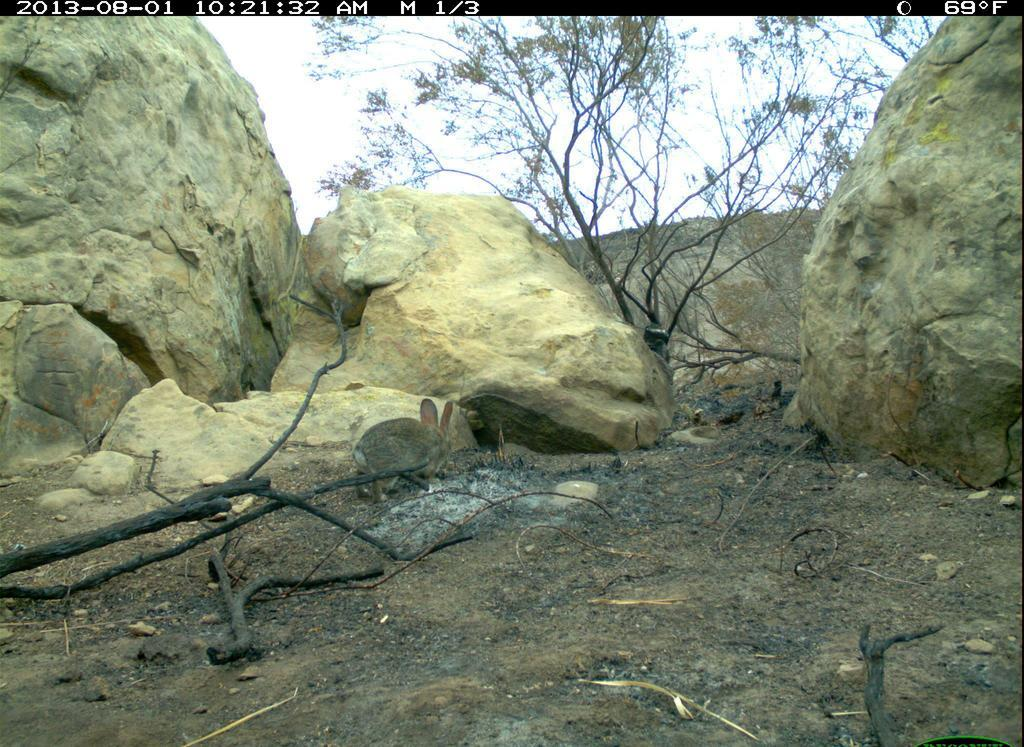rabbit: (345, 381, 482, 510)
